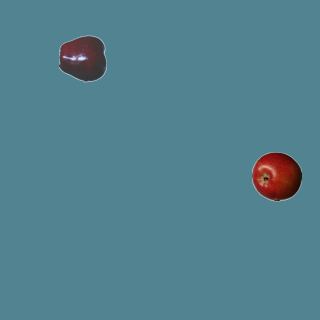Apple Braeburn: (251, 151, 301, 201)
Apple Red Delicious: (58, 33, 108, 83)
